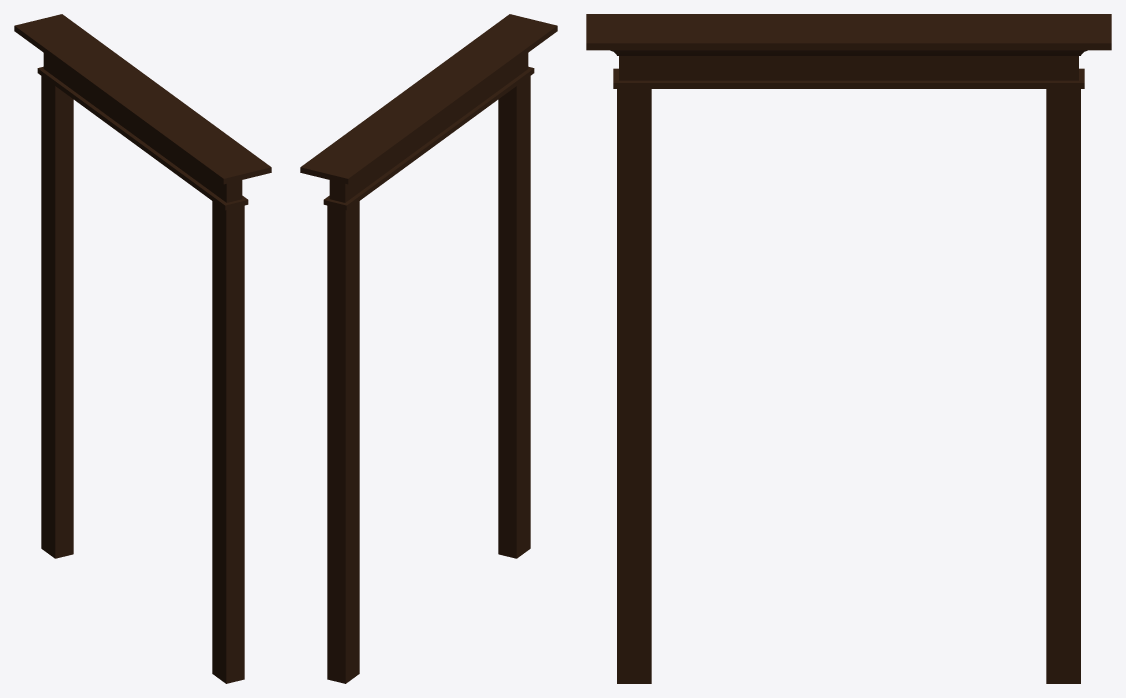
File: SM_DoorFrame_001.obj
3 renders of one model, left to right at view 1: azimuth 30°, elevation 25°; view 2: azimuth 150°, elevation 25°; view 3: azimuth 270°, elevation 25°, orthographic. The views are drawn at different scales.
Visible parts, largest first — view 1: group44_pCube87; view 2: group44_pCube87; view 3: group44_pCube87.
Boxes of the visible parts, x1,y1,x2,y2 form: group44_pCube87: (14, 14, 271, 683); group44_pCube87: (300, 14, 557, 683); group44_pCube87: (586, 14, 1111, 683).
Bounding box in the file's own units: 24.3 × 251 × 184.
